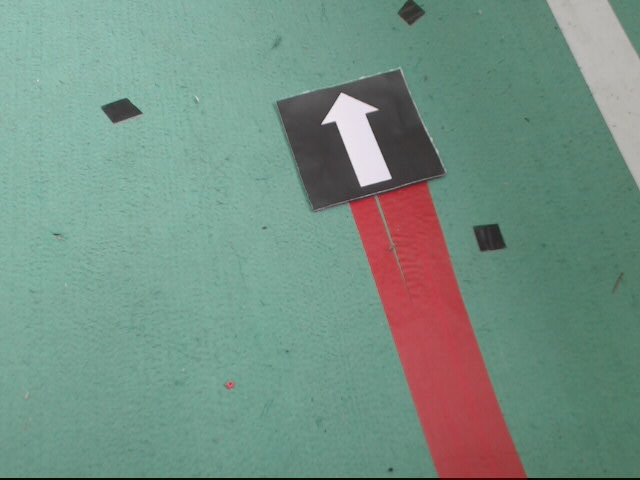straight: (274, 67, 446, 211)
